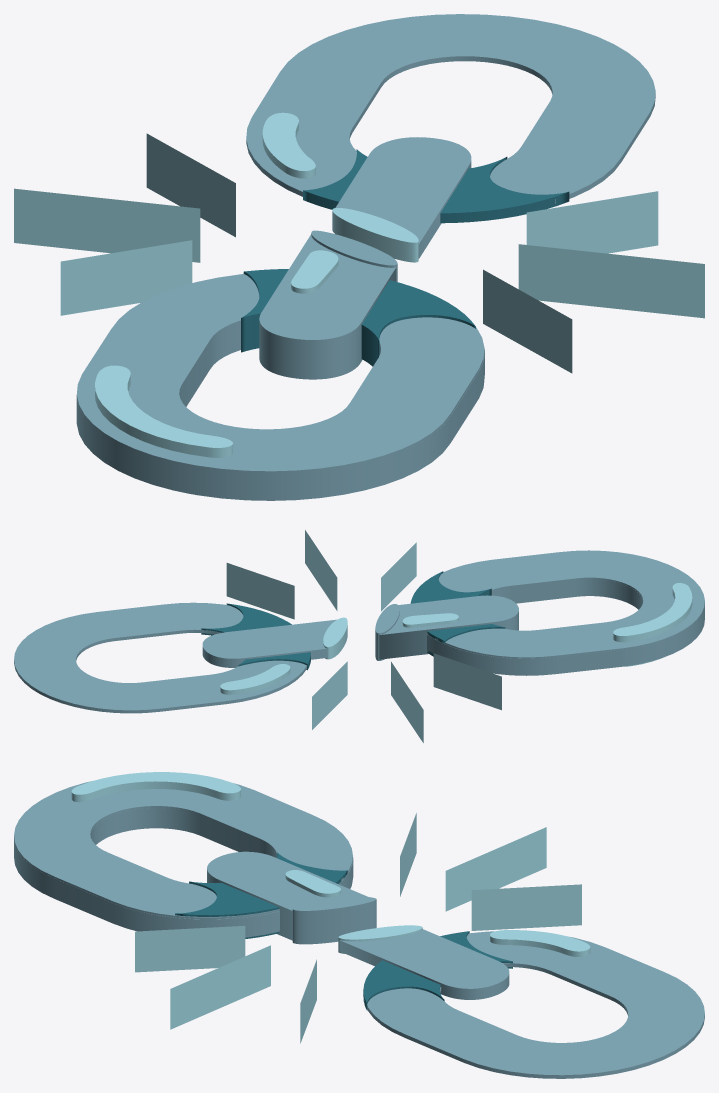
The model's file is emoji_u26d3_200d_1f4a5.glb.
3 renders of one model, top to bottom at view 1: azimuth 30°, elevation 25°; view 2: azimuth 150°, elevation 25°; view 3: azimuth 270°, elevation 25°, orthographic. The views are drawn at different scales.
Visible parts, largest first — view 1: emoji_u26d3_200d_1f4a5; view 2: emoji_u26d3_200d_1f4a5; view 3: emoji_u26d3_200d_1f4a5.
Boxes of the visible parts, x1,y1,x2,y2 form: emoji_u26d3_200d_1f4a5: (14,14,704,500); emoji_u26d3_200d_1f4a5: (14,530,704,742); emoji_u26d3_200d_1f4a5: (14,772,704,1078).
Size of the model in its own units: 0.0337 by 0.0022 by 0.0337.
